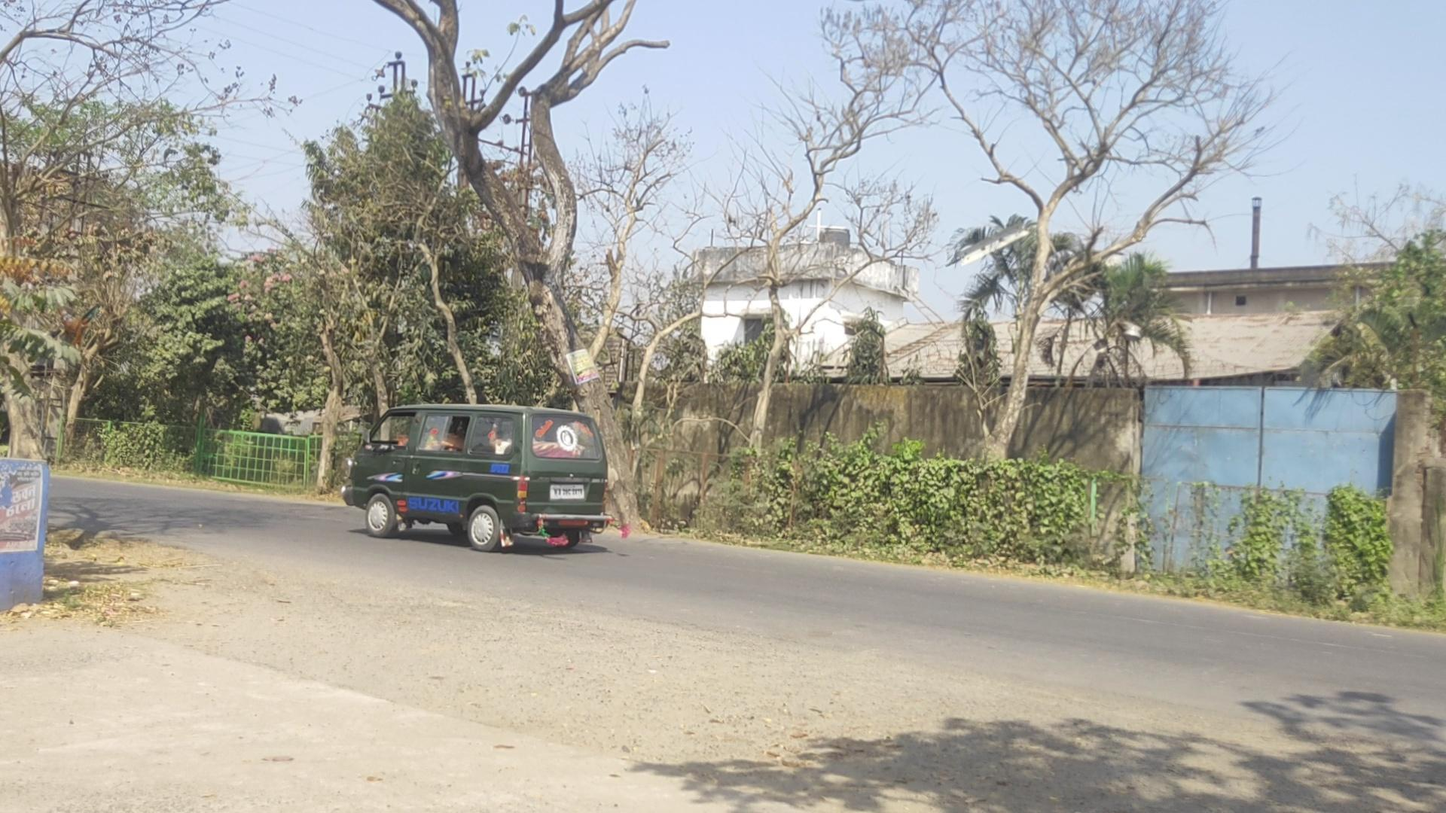van: (341, 403, 613, 553)
